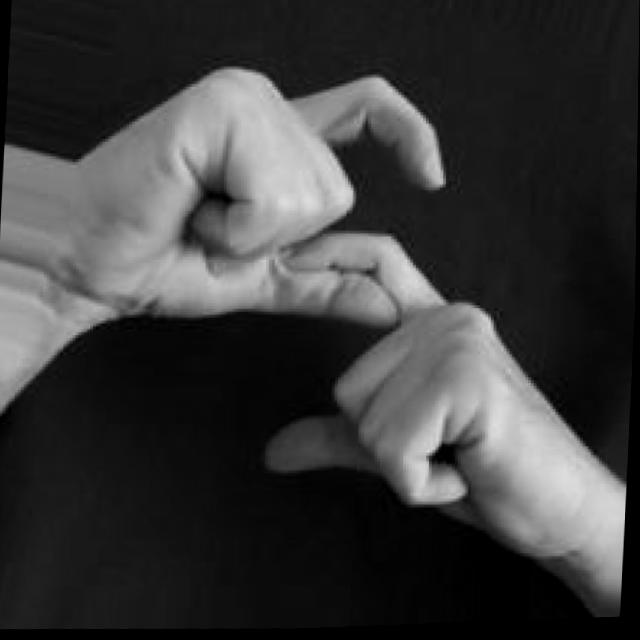S: (56, 32, 634, 577)
